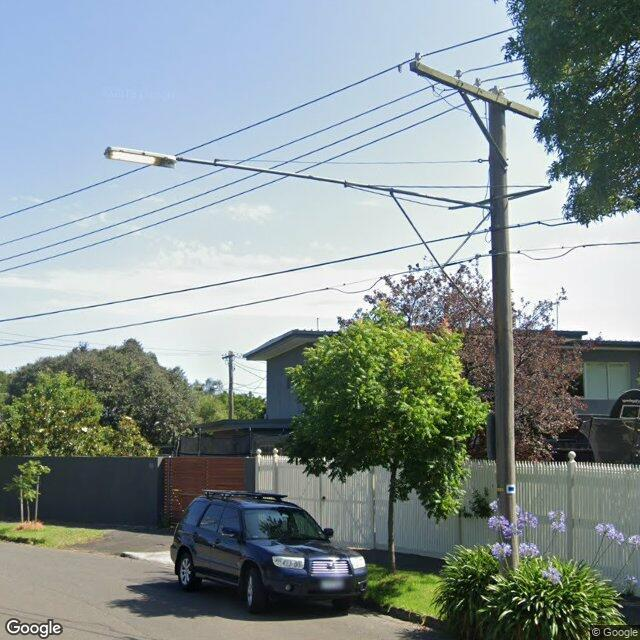crossarm: (397, 52, 541, 120), (222, 354, 235, 360)
streetlight: (104, 144, 490, 212)
timber-pole: (488, 88, 518, 574), (228, 351, 234, 419)
